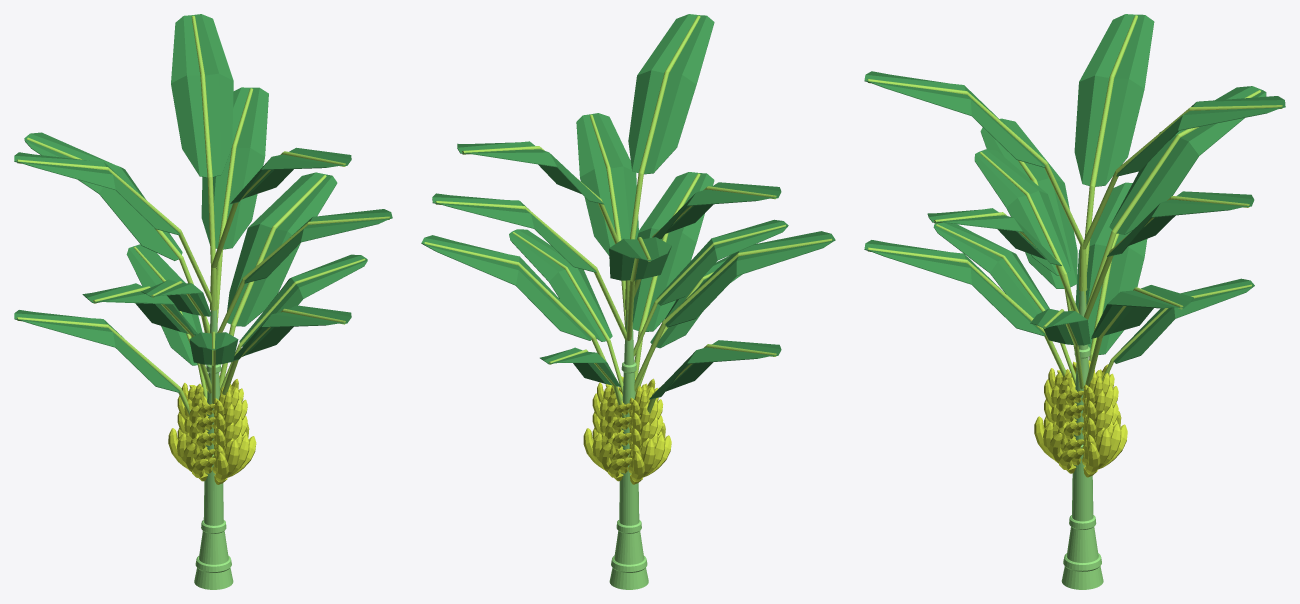
File: bananatree.fbx
3 renders of one model, left to right at view 1: azimuth 30°, elevation 25°; view 2: azimuth 150°, elevation 25°; view 3: azimuth 270°, elevation 25°, orthographic. The views are drawn at different scales.
Parts seen in each view (by area): view 1: bananatree; view 2: bananatree; view 3: bananatree.
Boxes of the visible parts, bbox=[...] form: bananatree: bbox=[14, 14, 392, 589]; bananatree: bbox=[421, 14, 835, 589]; bananatree: bbox=[864, 14, 1285, 589].
Size of the model in its own units: 0.9496 by 1.31 by 0.9634.
